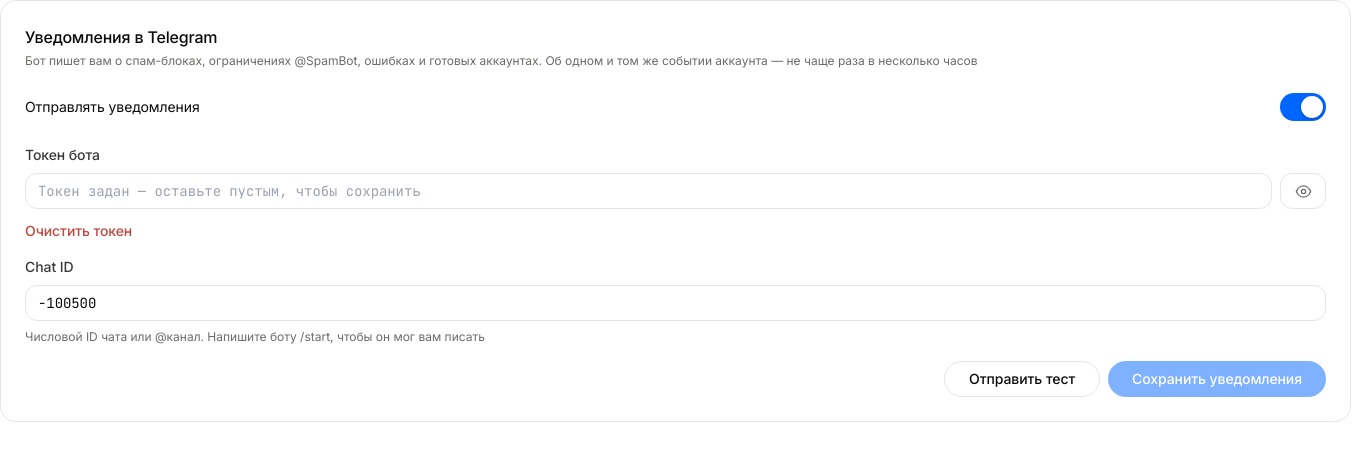
Test: unsaved changes hold the test back until they are saved
Type "1:abc" into the password field with placeholder "Токен задан — оставьте пустым, чтобы сохранить".
click(648, 191); type("1:abc")  # box x1=25 y1=173 x2=1272 y2=209
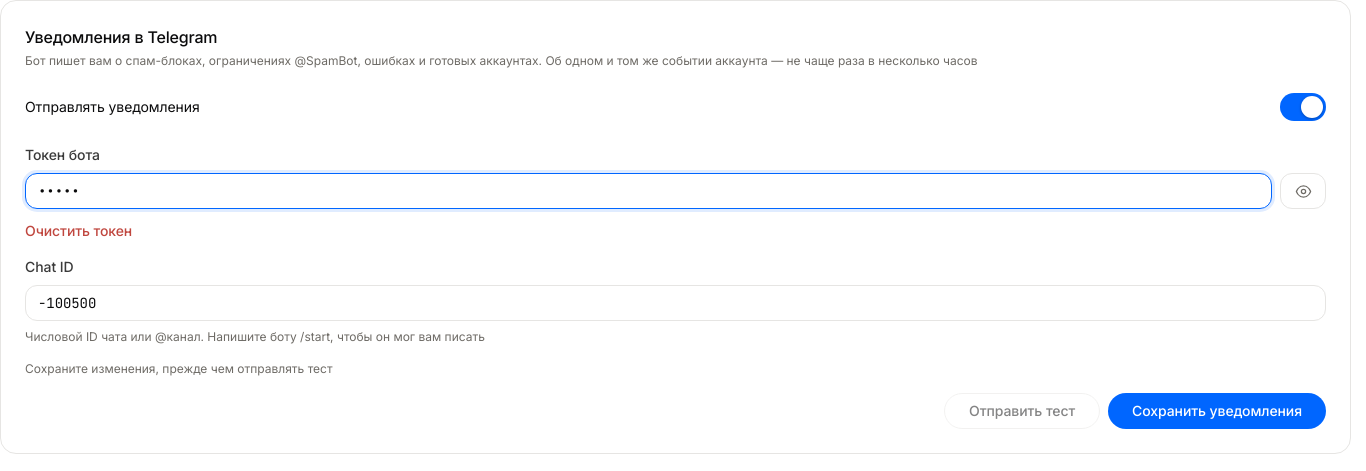
Now the button "Отправить тест" is disabled, box x1=944 y1=393 x2=1100 y2=429
Now the text "Сохраните изменения, прежде чем отправлять тест" is shown, box x1=25 y1=361 x2=332 y2=376
